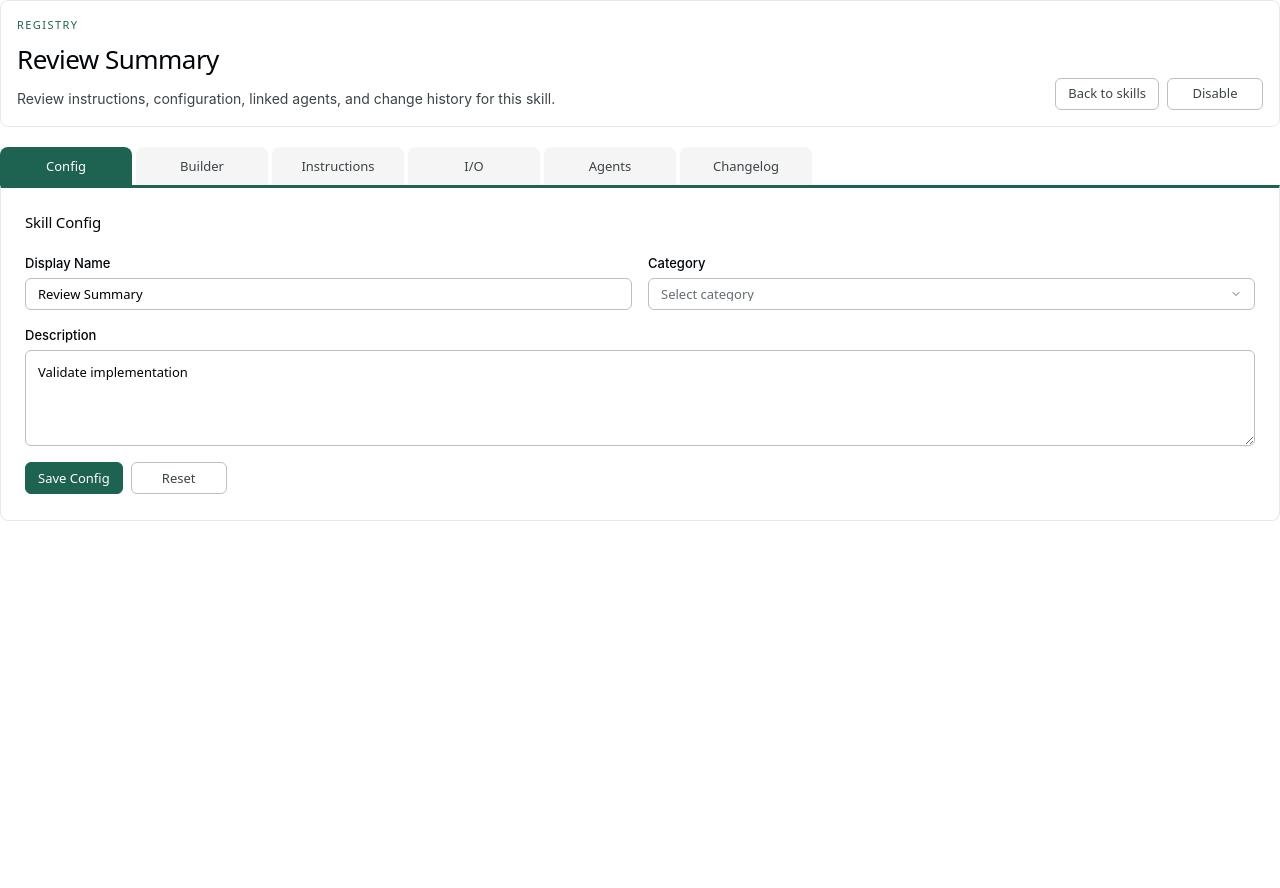
RegistrySkillsDetailPage › keeps I/O editor controls width-constrained to prevent overlap
Expected: the heading "Review Summary" is shown, [17,41,219,77]
Click the tab "I/O" at (474, 166), box [408,147,540,185]
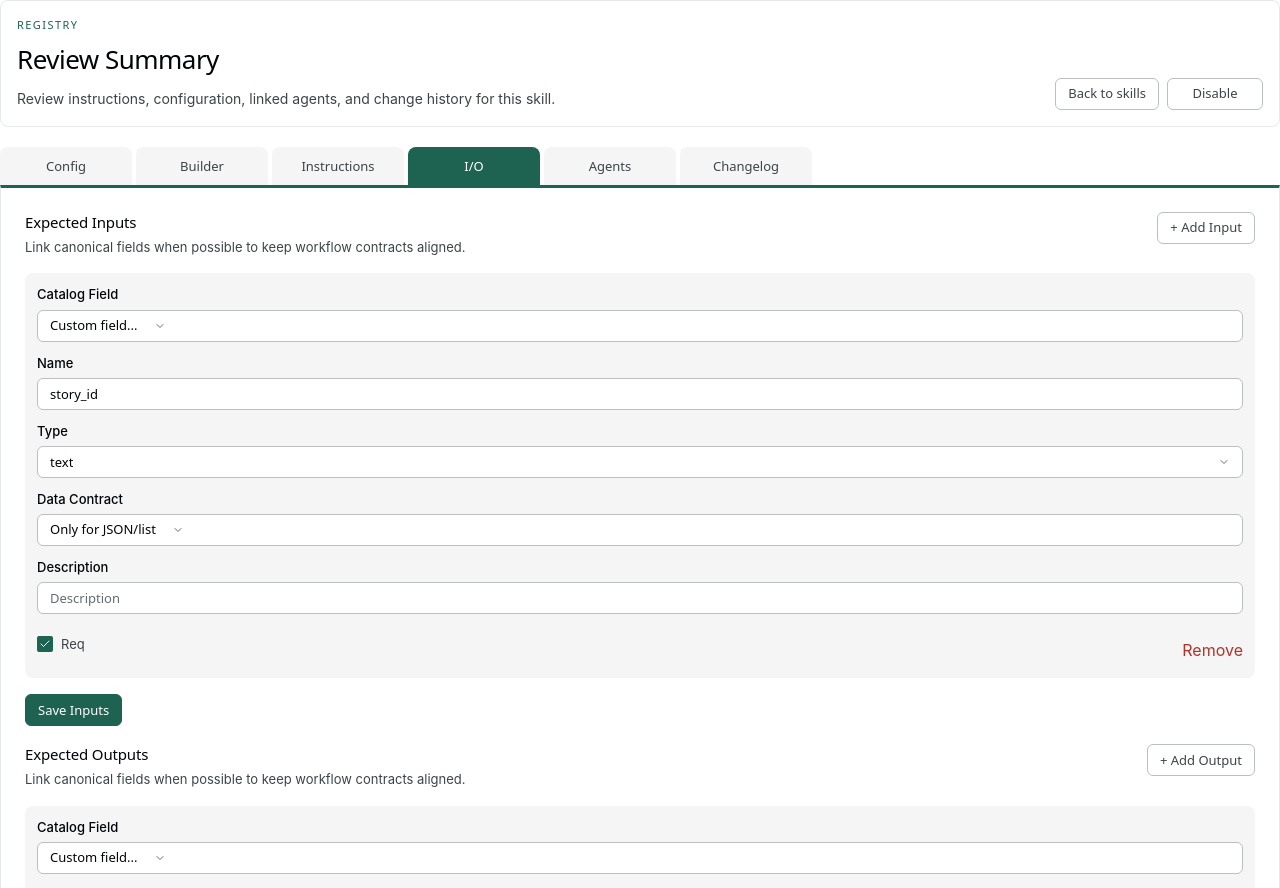
Expected: the checkbox labelled "Req" is shown, [37,636,85,652]
